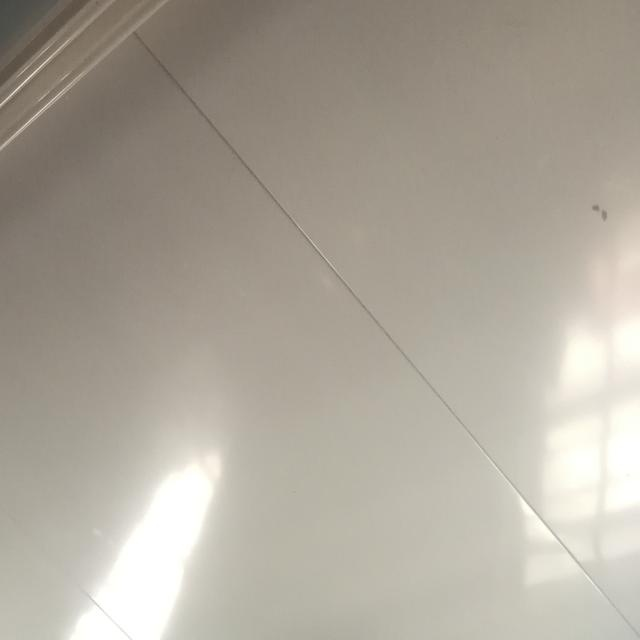fluorescent tube: (0, 0, 271, 388)
